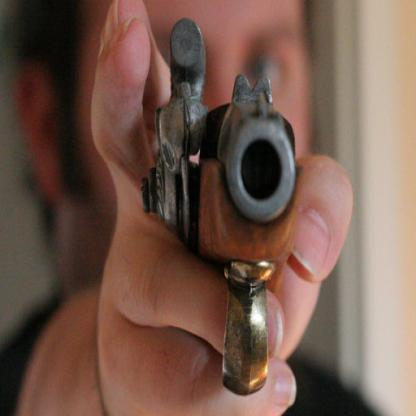gun: (140, 18, 304, 415)
